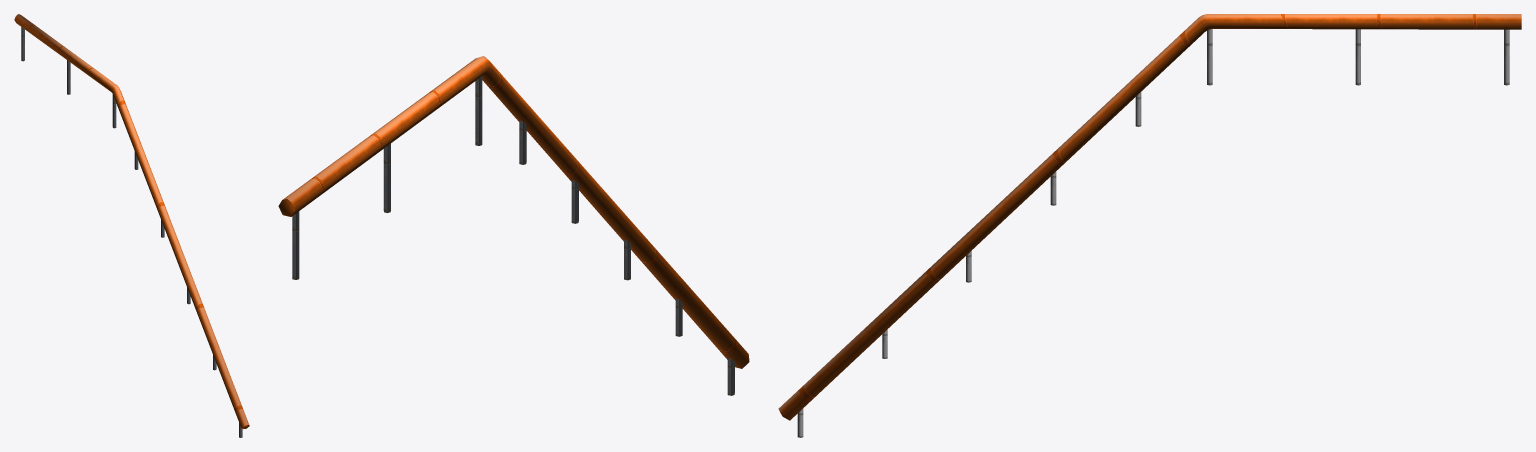
File: SmallStaircase_Rail.obj
3 views of the same model, side by side, from view 1: azimuth 30°, elevation 25°; view 2: azimuth 150°, elevation 25°; view 3: azimuth 270°, elevation 25° (orthographic). The views are drawn at different scales.
Parts seen in each view (by area): view 1: SmallStaircase-Rail; view 2: SmallStaircase-Rail; view 3: SmallStaircase-Rail.
Part boxes in pixels (x1,y1,x2,y2): SmallStaircase-Rail: (14, 14, 249, 437); SmallStaircase-Rail: (278, 56, 749, 395); SmallStaircase-Rail: (778, 14, 1521, 437).
Bounding box in the file's own units: 0.1867 × 5.49 × 8.76.
